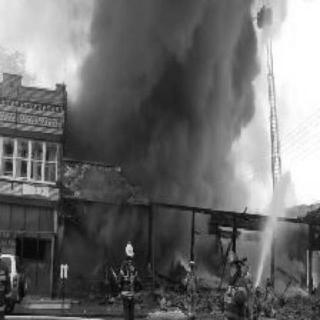Fire: (200, 176, 258, 272)
Smoke: (60, 2, 264, 284)
